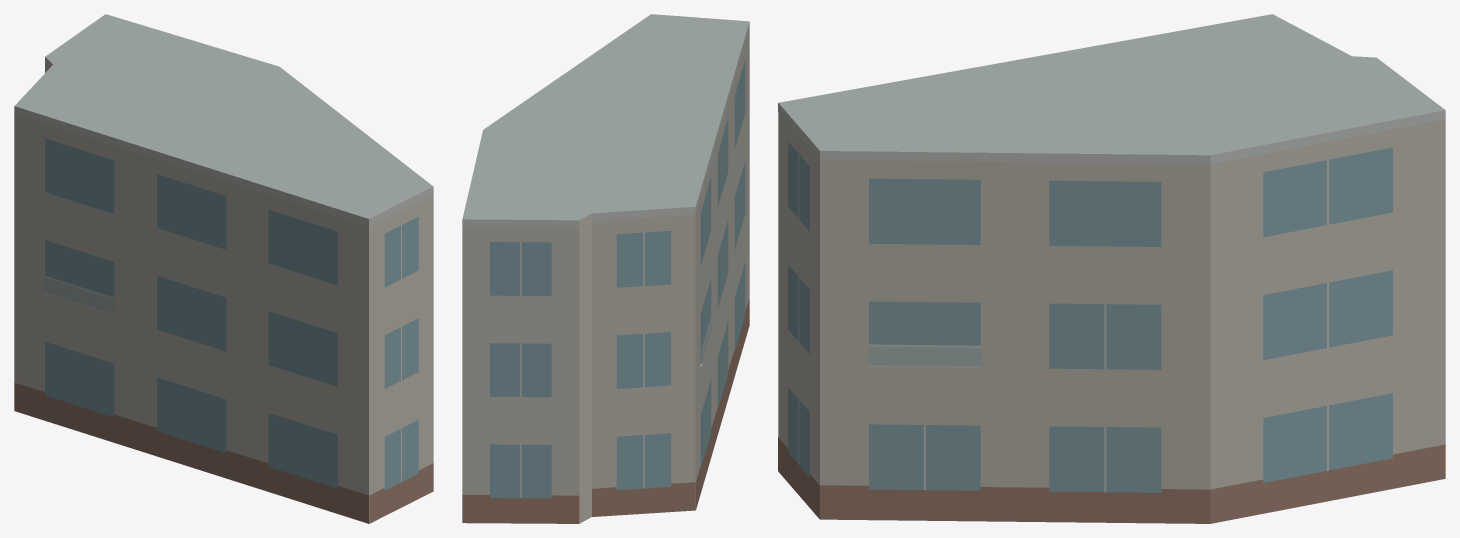
The model's file is survey-upis-32975163.glb.
3 renders of one model, left to right at view 1: azimuth 30°, elevation 25°; view 2: azimuth 150°, elevation 25°; view 3: azimuth 270°, elevation 25°, orthographic. The views are drawn at different scales.
Visible parts, largest first — view 1: survey-upis-32975163.tmp; view 2: survey-upis-32975163.tmp; view 3: survey-upis-32975163.tmp.
Boxes of the visible parts, bbox=[...] form: survey-upis-32975163.tmp: bbox=[14, 14, 433, 523]; survey-upis-32975163.tmp: bbox=[462, 14, 749, 523]; survey-upis-32975163.tmp: bbox=[778, 14, 1445, 523].
Bounding box in the file's own units: 8.06 × 9.8 × 16.09.
